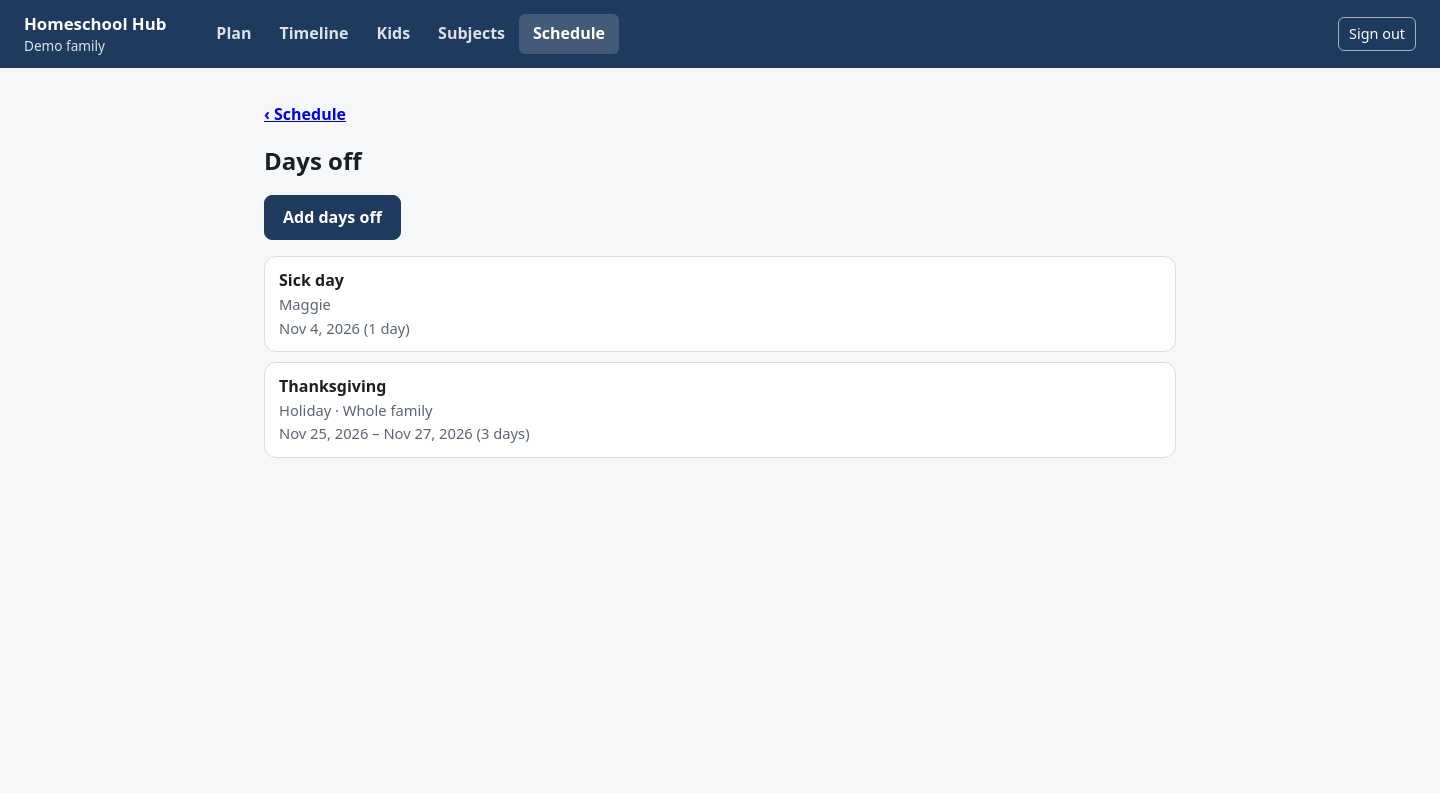
it: Days off screen › add: whole family → childIds [] and blank label → null
The width and height of the screenshot is (1440, 793).
Expected: the list named "Days off" is shown, [264,256,1176,458]
Click the button "Add days off" at (332,217), box [264,195,401,240]
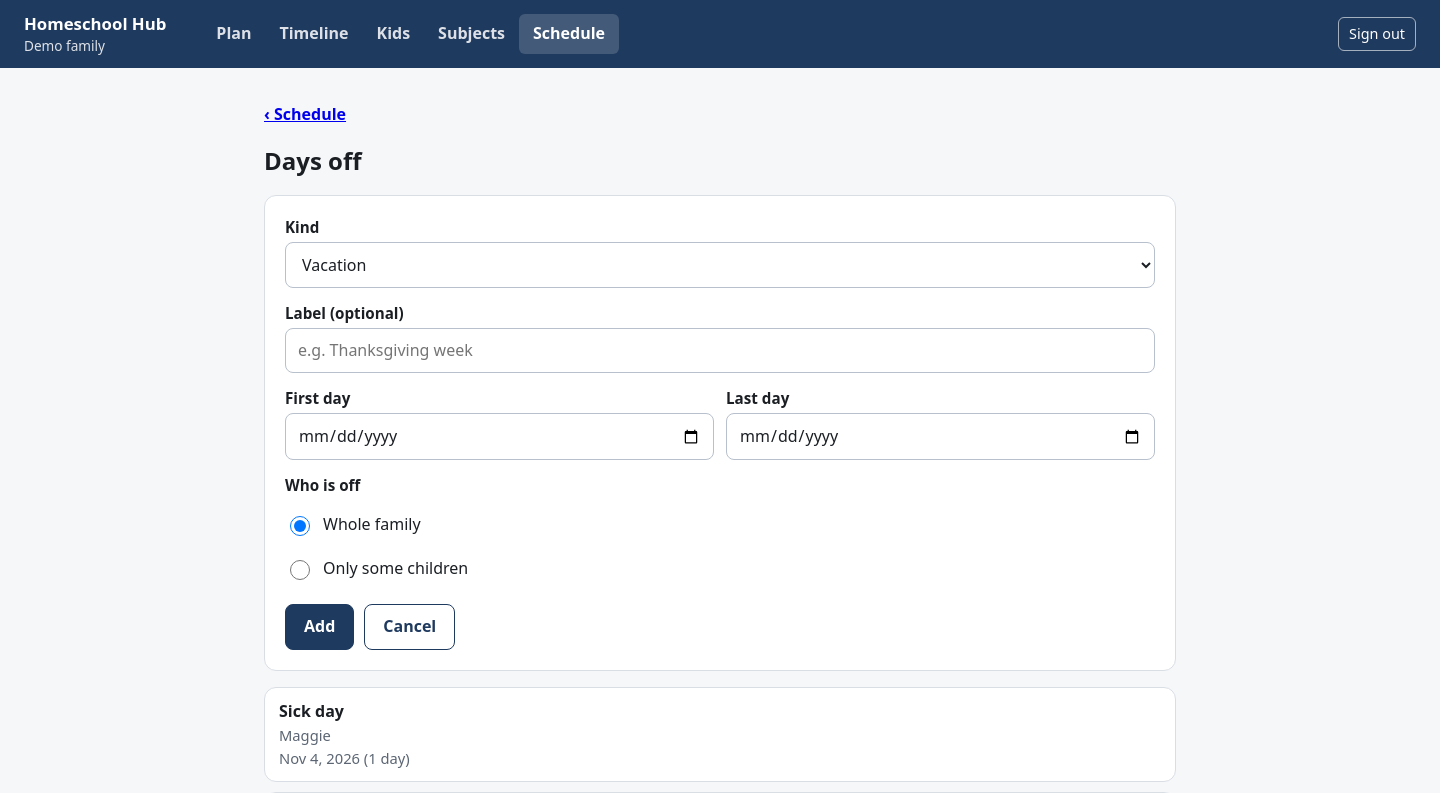
Expected: the radio button labelled "Whole family" is checked, [290,516,310,536]
Type "2026-12-21" into the date field labelled "First day" at (500,437), box [285,413,714,460]
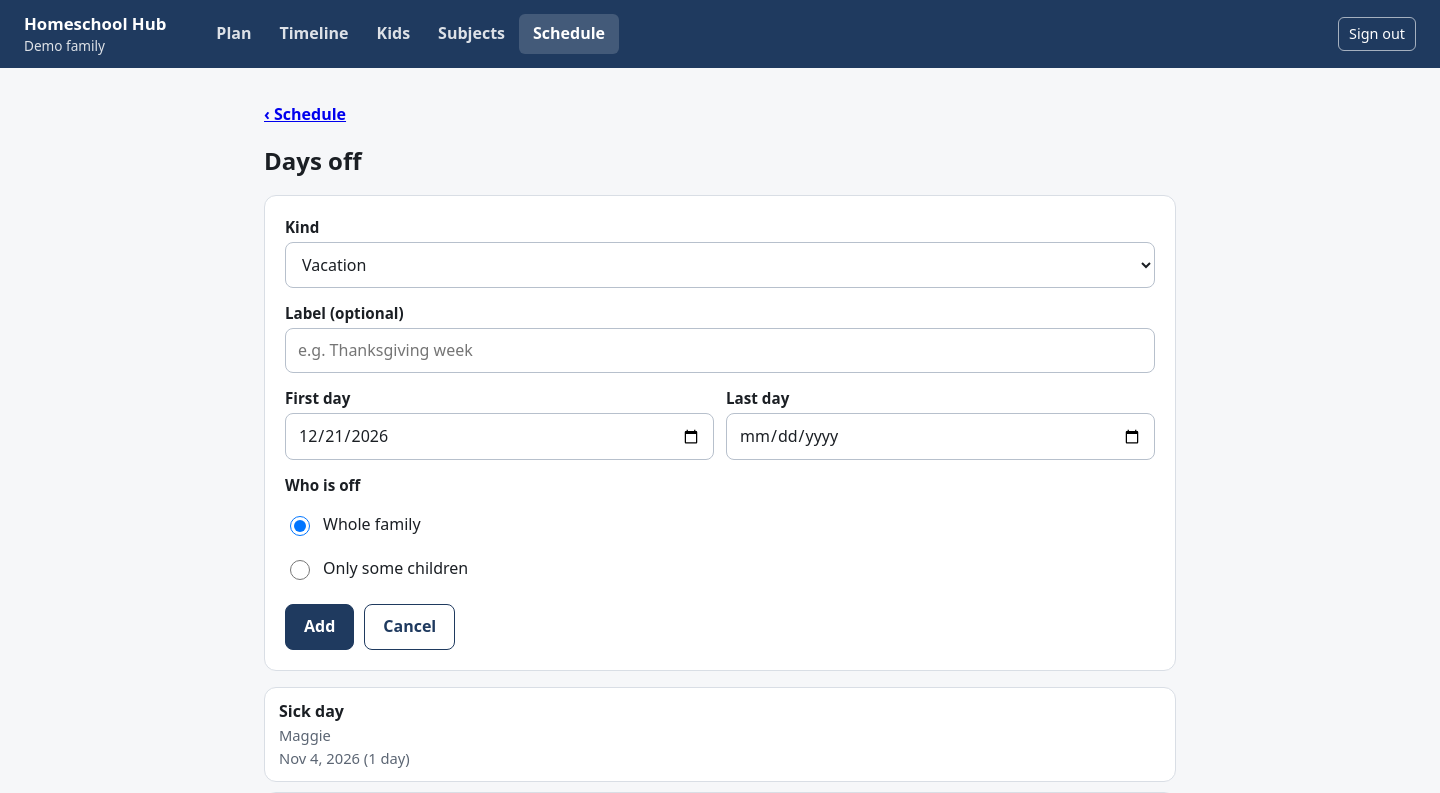
Type "2027-01-01" into the date field labelled "Last day" at (940,437), box [726,413,1155,460]
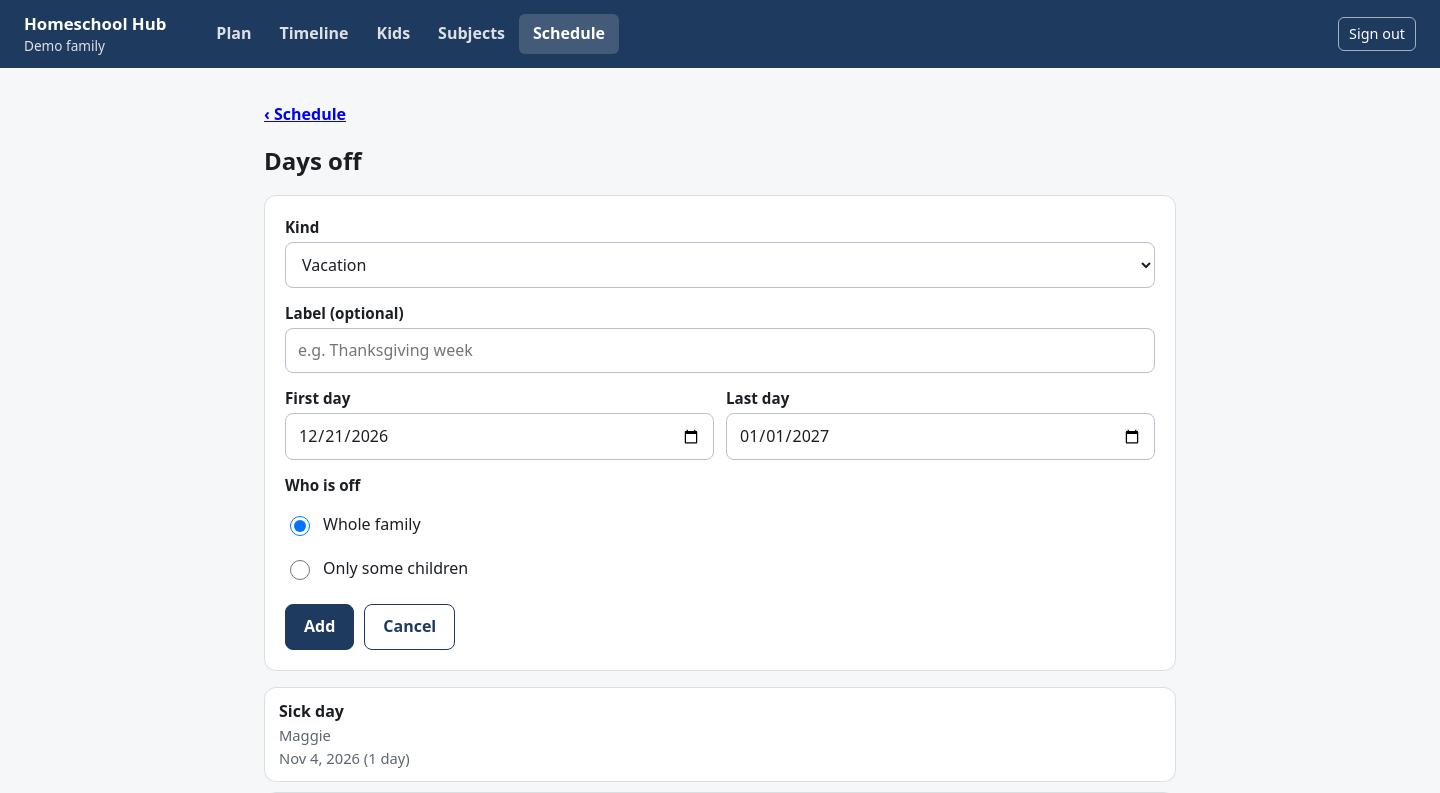
Click the button "Add" at (320,627), box [285,604,354,650]
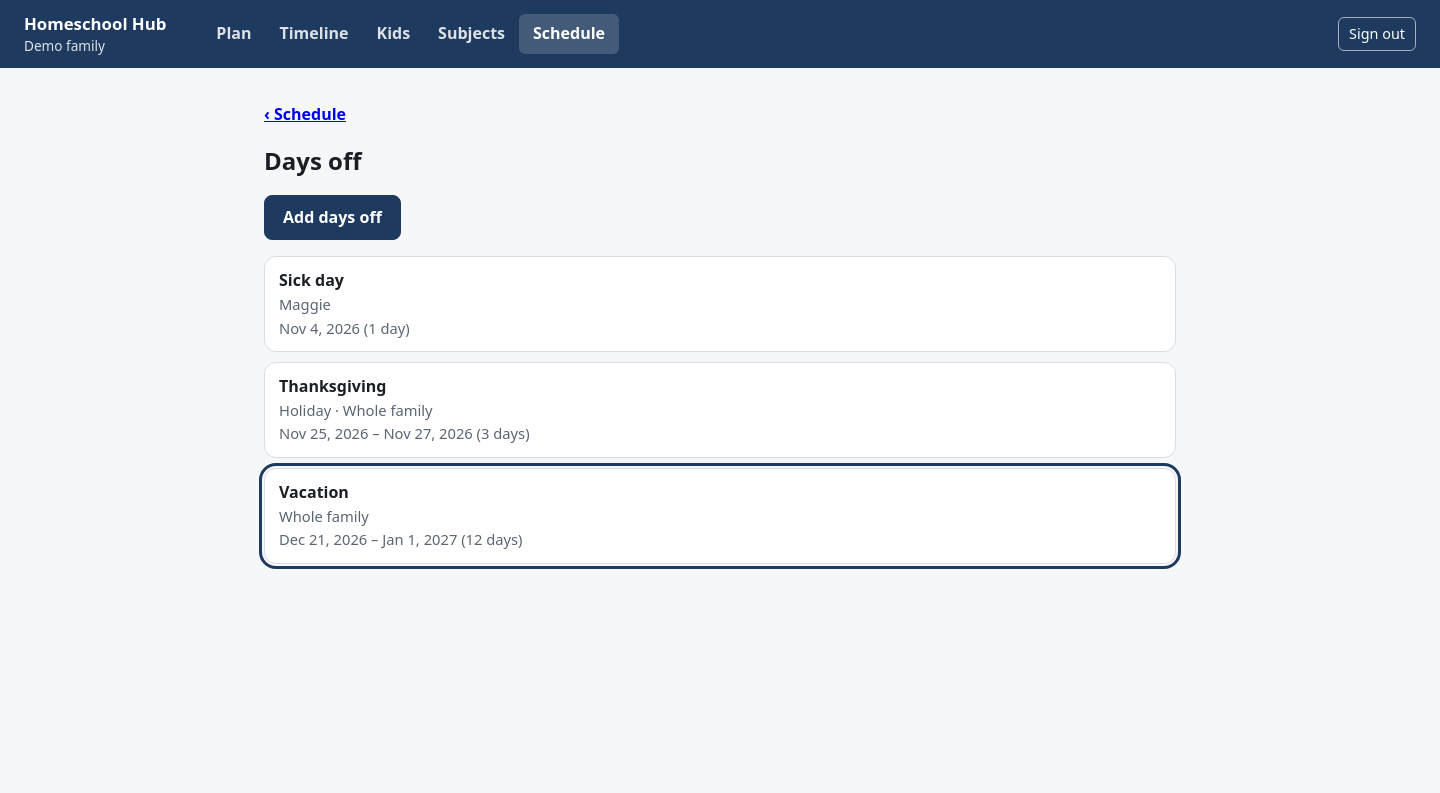
Expected: the text "Dec 21, 2026 – Jan 1, 2027 (12 days)" is shown, [279,529,522,550]
